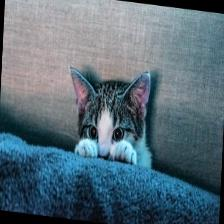kedo: (70, 68, 152, 171)
